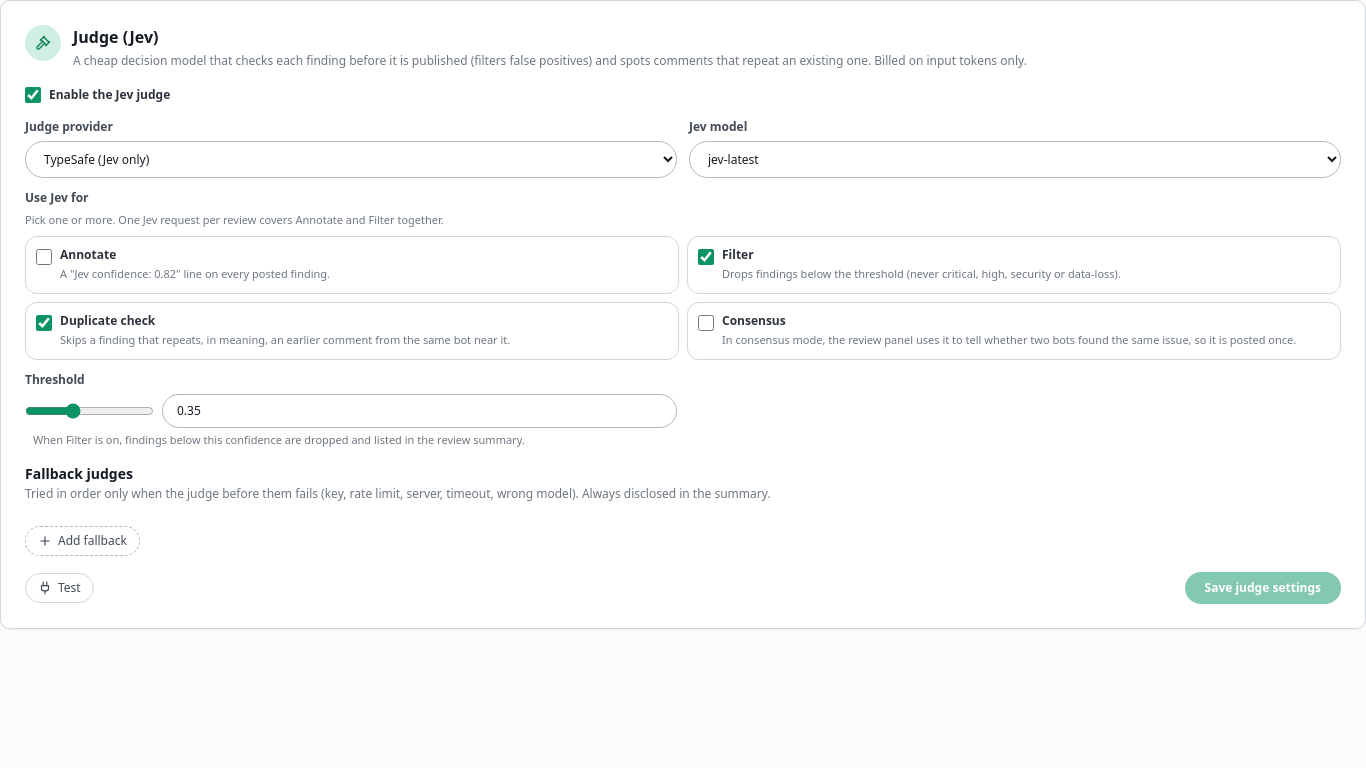
Test: JudgeCard (Jev) › tests the judge and shows ok · model · ms
Click the button with aria-label "Test (typesafe)". click: [59, 588]
box: [25, 573, 94, 603]
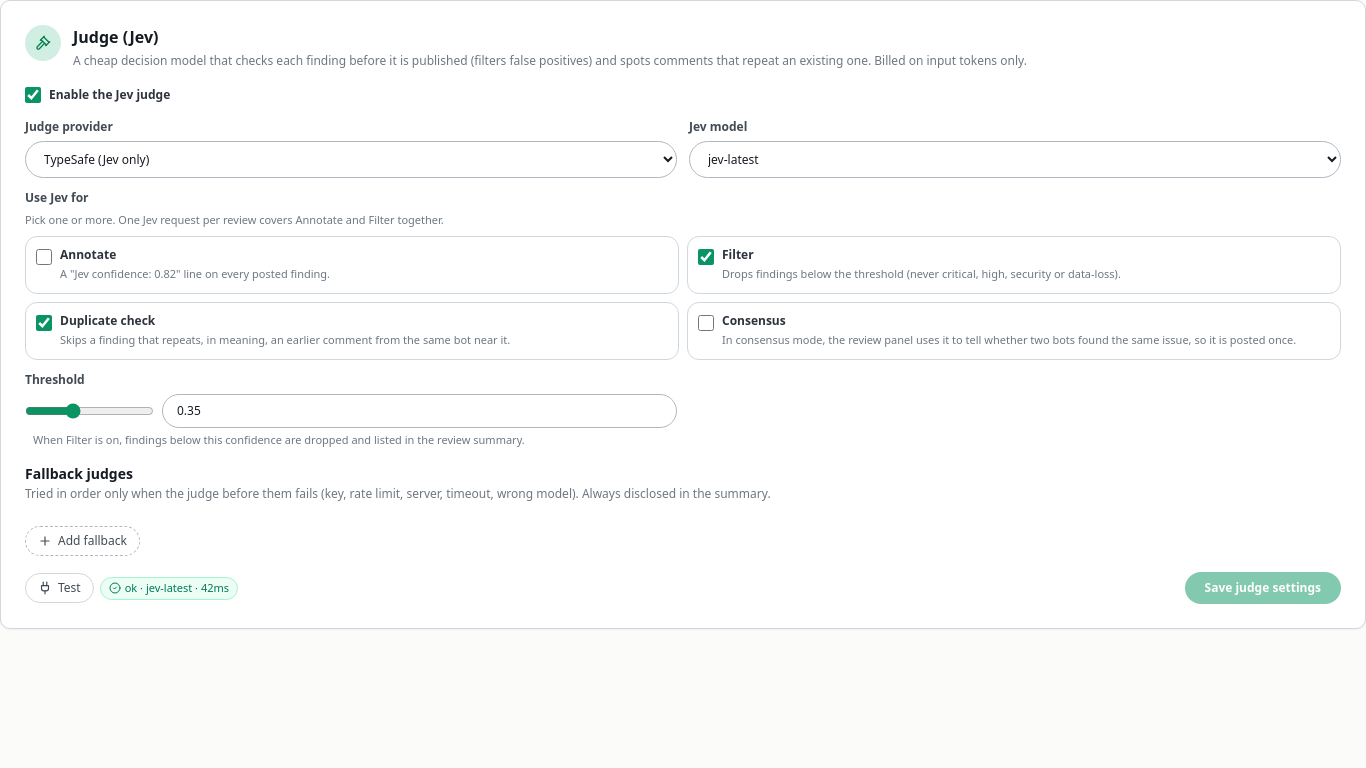
Result: the text "ok · jev-latest · 42ms" is shown at [125, 580, 229, 596]
